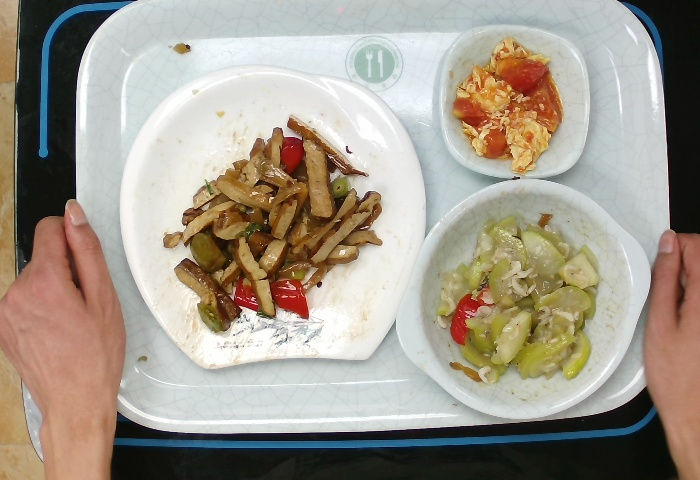JYsf-Mian_Pan: (112, 60, 429, 372)
JYsf-Shuang_Er_Wan: (392, 175, 654, 422)
JYsf-Si_Fang_Die: (436, 19, 597, 183)
